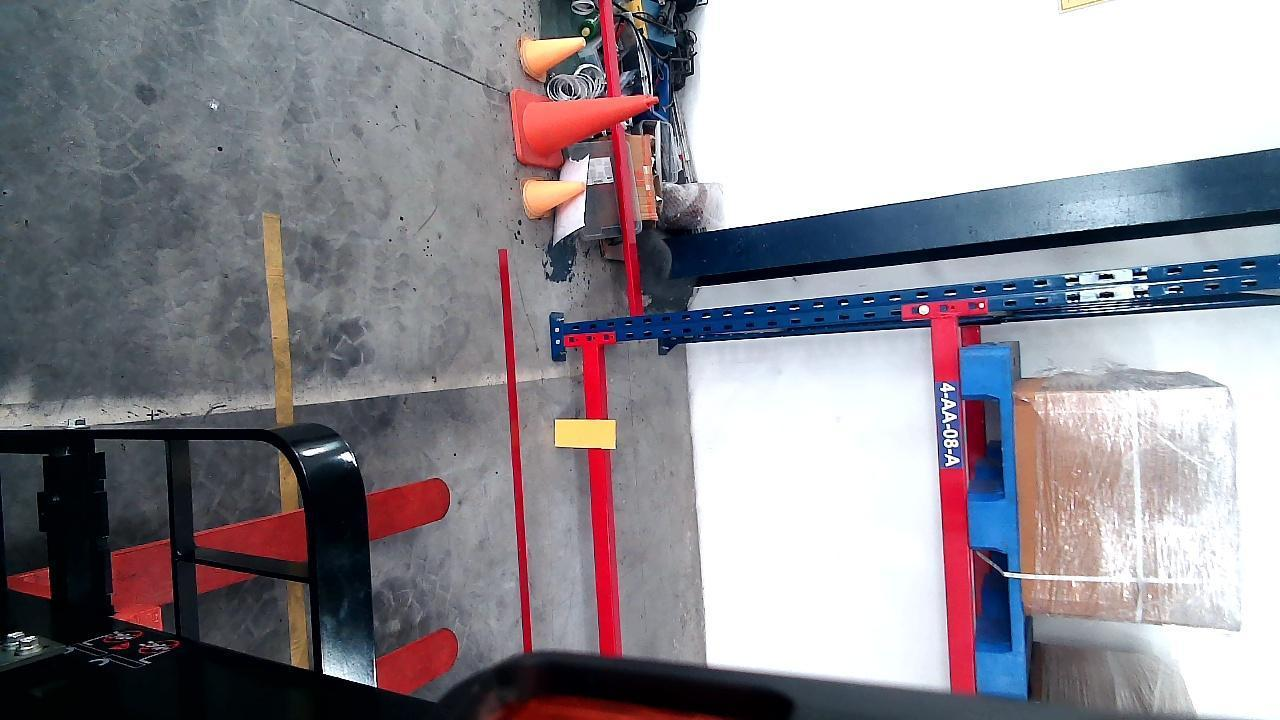h_rack: (933, 314, 973, 694), (581, 345, 620, 657)
orange_strip: (554, 417, 615, 449)
red_line: (496, 246, 537, 661)
small_pallet: (965, 349, 1026, 684)
yellow_line: (265, 208, 293, 423)
